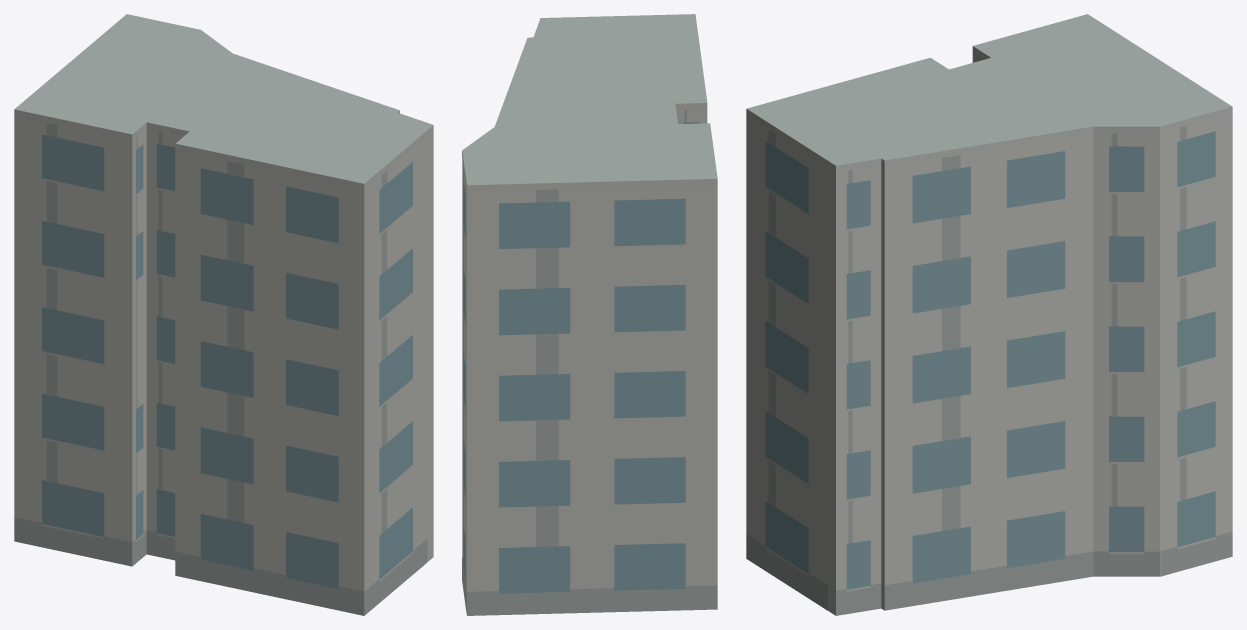
The model's file is survey-upis-32764428.glb.
3 renders of one model, left to right at view 1: azimuth 30°, elevation 25°; view 2: azimuth 150°, elevation 25°; view 3: azimuth 270°, elevation 25°, orthographic. The views are drawn at different scales.
Visible parts, largest first — view 1: survey-upis-32764428.tmp; view 2: survey-upis-32764428.tmp; view 3: survey-upis-32764428.tmp.
Boxes of the visible parts, left/top/right/bottom form: survey-upis-32764428.tmp: left=14, top=14, right=433, bottom=615; survey-upis-32764428.tmp: left=462, top=14, right=717, bottom=615; survey-upis-32764428.tmp: left=746, top=14, right=1232, bottom=615.
Size of the model in its own units: 11.78 by 16.27 by 15.94.
